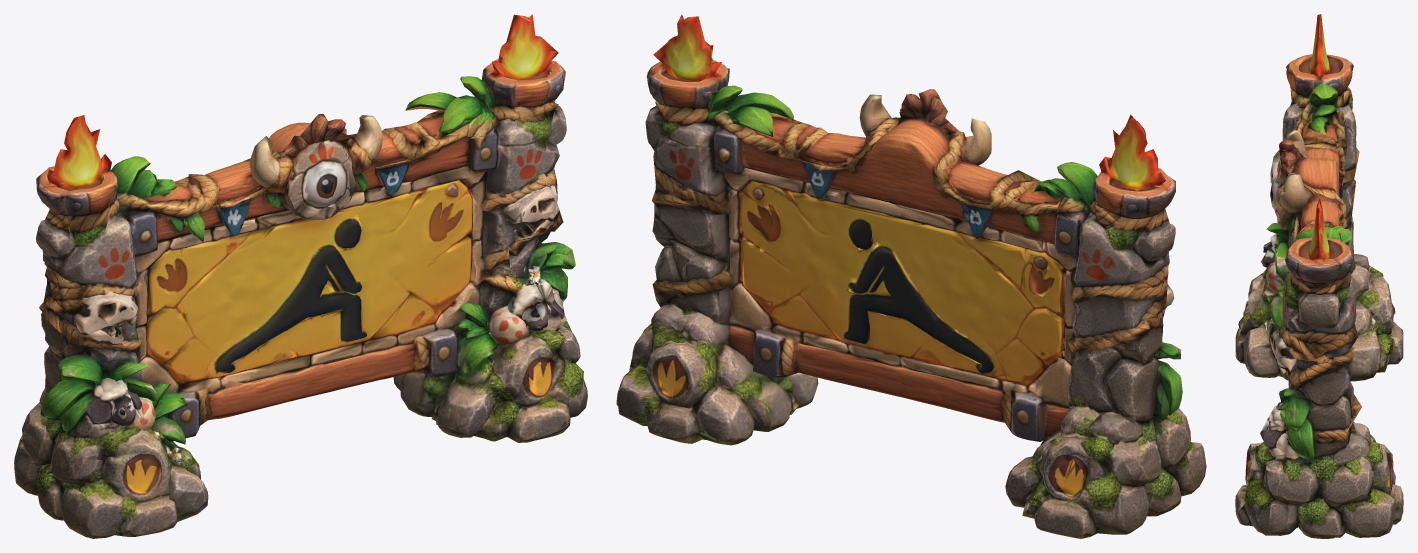
The model's file is pose_cyclops_1.glb.
The picture shows the model from 3 angles, left to right: view 1: azimuth 30°, elevation 25°; view 2: azimuth 150°, elevation 25°; view 3: azimuth 270°, elevation 25°; orthographic projection. The views are drawn at different scales.
Visible parts, largest first — view 1: tripo_node_a099d990-064f-414b-aa7b-edb8a24b87d9; view 2: tripo_node_a099d990-064f-414b-aa7b-edb8a24b87d9; view 3: tripo_node_a099d990-064f-414b-aa7b-edb8a24b87d9.
Boxes of the visible parts, box(x1,y1,x2,y2) form: tripo_node_a099d990-064f-414b-aa7b-edb8a24b87d9: box(14, 14, 587, 538); tripo_node_a099d990-064f-414b-aa7b-edb8a24b87d9: box(616, 14, 1206, 538); tripo_node_a099d990-064f-414b-aa7b-edb8a24b87d9: box(1235, 14, 1403, 538).
Size of the model in its own units: 0.9978 by 0.7125 by 0.3286.
1 material, 1 textured.
